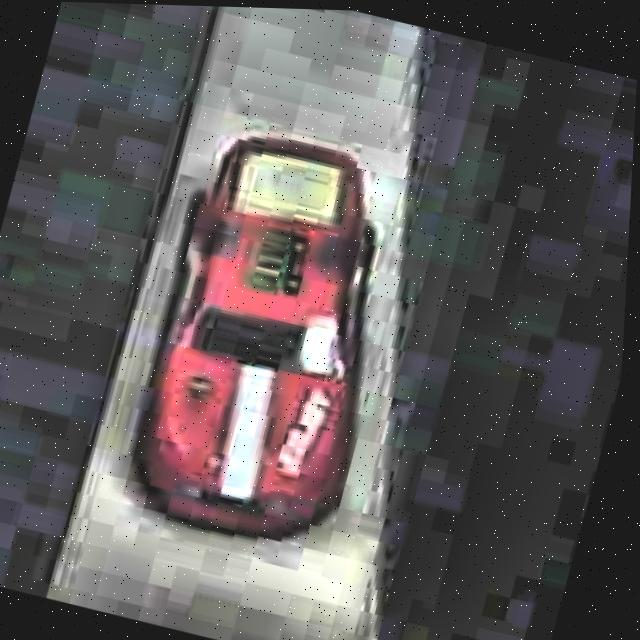car: (101, 111, 434, 568)
